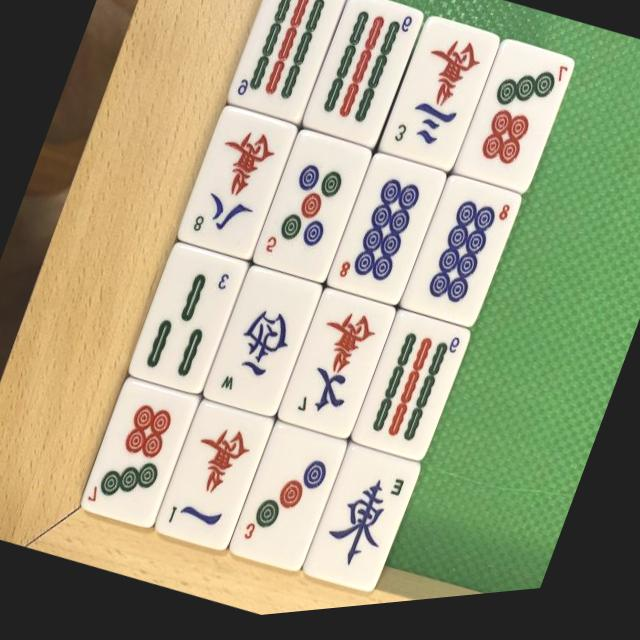hwe: (300, 445, 420, 601)
hww: (206, 264, 320, 422)
sb3: (130, 243, 245, 400)
sb9: (307, 0, 423, 154), (223, 0, 350, 136), (356, 318, 466, 472), (230, 0, 342, 127)
sc1: (153, 391, 279, 557)
sc3: (384, 24, 496, 177)
sc7: (279, 291, 395, 446)
sc8: (180, 107, 296, 266)
sd3: (226, 416, 350, 579)
sd5: (252, 127, 377, 290)
sd7: (81, 377, 196, 533), (461, 49, 572, 201)
sd8: (398, 176, 522, 342), (324, 153, 448, 318)
